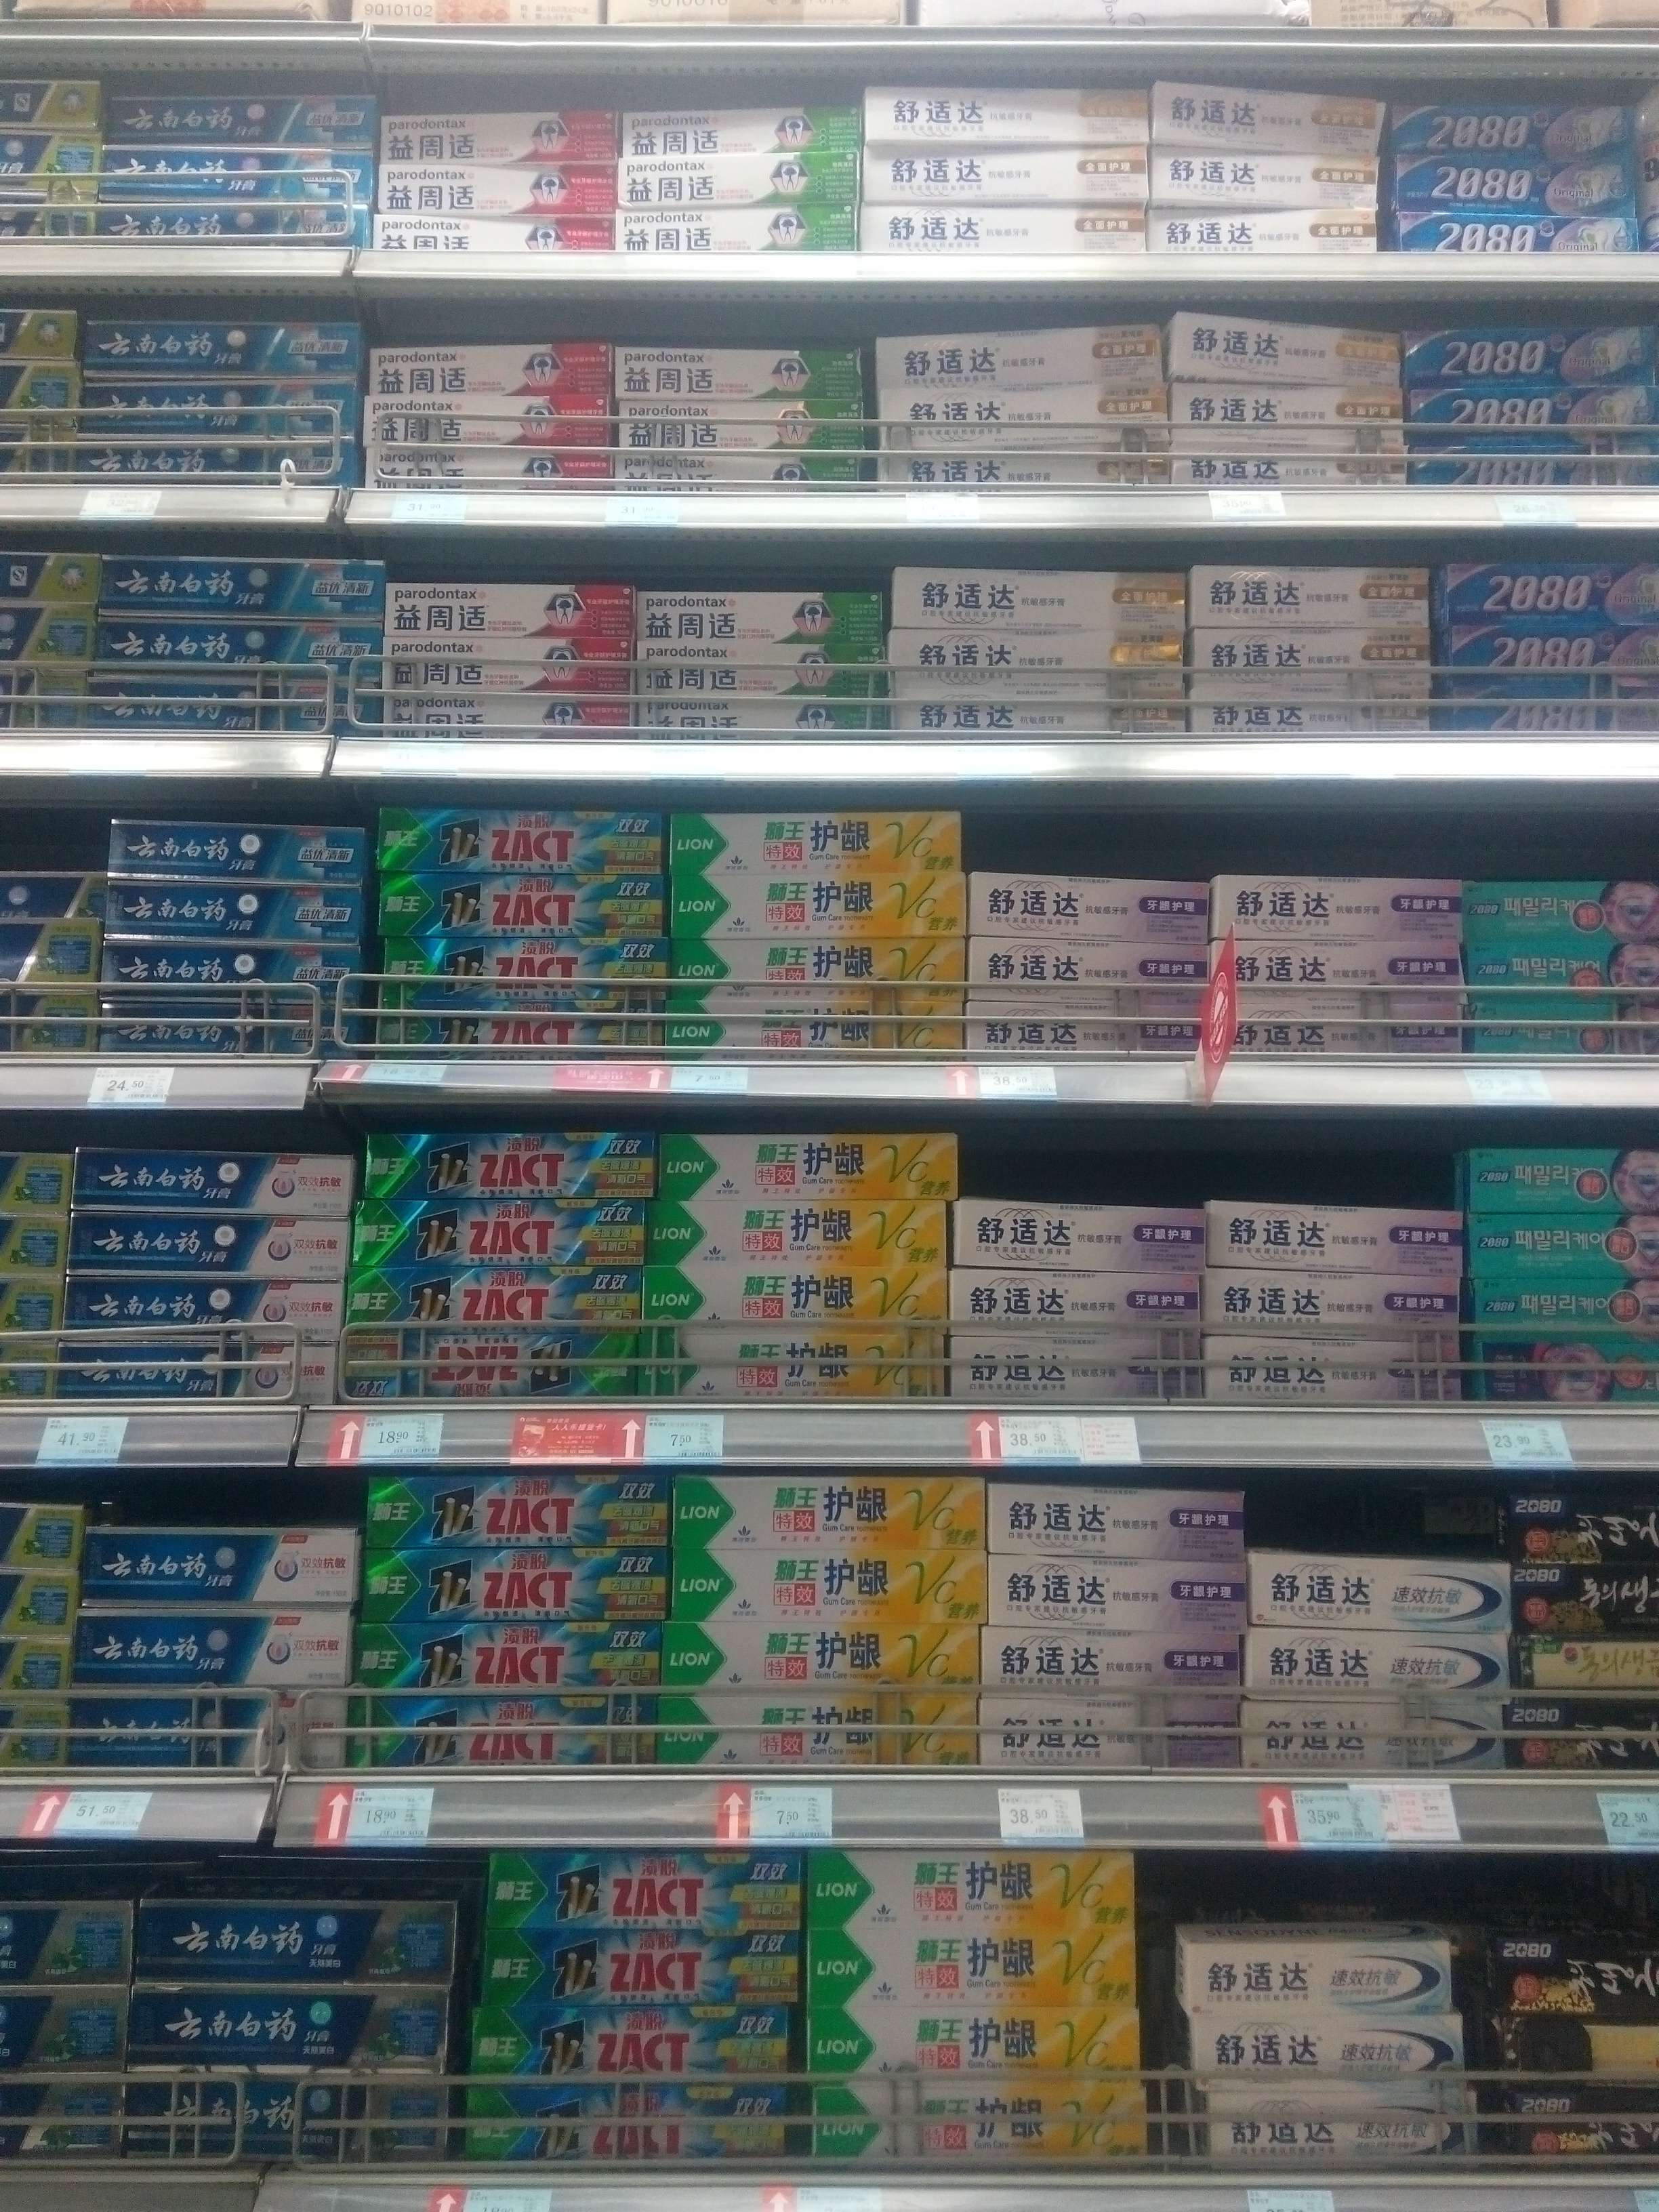product: (124, 1984, 450, 2071), (134, 1895, 460, 1980), (807, 1926, 1138, 2008), (125, 2078, 448, 2158), (479, 1926, 798, 2003), (812, 2087, 1145, 2160), (465, 2083, 789, 2158), (467, 2006, 788, 2081), (810, 1851, 1136, 1925), (809, 2010, 1140, 2081), (80, 1524, 352, 1609), (483, 1855, 805, 1925), (368, 1472, 667, 1545), (1195, 2010, 1467, 2090), (361, 1550, 662, 1622), (78, 1613, 347, 1693), (347, 1698, 652, 1768), (674, 1554, 992, 1620), (355, 1623, 657, 1691), (1213, 2094, 1478, 2170), (659, 1700, 979, 1763), (659, 1132, 958, 1198), (674, 1482, 981, 1547), (669, 805, 958, 871), (340, 1334, 636, 1399), (664, 1629, 972, 1689), (359, 1132, 648, 1197), (667, 873, 964, 935), (350, 1200, 638, 1264), (647, 1200, 946, 1261), (70, 1696, 343, 1763), (382, 939, 662, 1003), (667, 941, 964, 1001), (892, 636, 1185, 697), (641, 1331, 941, 1390), (1185, 1942, 1460, 2006), (350, 1268, 640, 1329), (985, 1702, 1234, 1771), (378, 873, 660, 934), (371, 1003, 660, 1062), (92, 618, 382, 678), (376, 806, 664, 866), (666, 1001, 962, 1059), (1248, 1632, 1504, 1698), (864, 146, 1150, 206), (99, 554, 382, 613), (999, 1559, 1244, 1627), (889, 575, 1185, 631), (647, 1273, 939, 1329), (71, 1155, 347, 1214), (1244, 1703, 1504, 1766), (101, 89, 373, 148), (98, 944, 359, 1003), (63, 1280, 340, 1336), (66, 1217, 343, 1273), (878, 387, 1164, 441), (1220, 876, 1466, 939), (983, 1637, 1236, 1698), (990, 1489, 1241, 1550), (951, 1273, 1195, 1336), (873, 324, 1154, 378), (1406, 385, 1659, 444), (1410, 317, 1642, 381), (1253, 1562, 1513, 1620), (1204, 1341, 1462, 1399), (56, 1345, 335, 1397), (868, 89, 1145, 141), (84, 378, 357, 430), (1190, 625, 1429, 685), (1215, 1007, 1467, 1062), (1232, 944, 1460, 1005), (1209, 1207, 1464, 1261), (971, 941, 1209, 998), (1192, 564, 1431, 622), (1209, 1273, 1455, 1329), (1152, 146, 1382, 206), (91, 685, 378, 732), (969, 876, 1211, 932), (971, 1003, 1202, 1061), (955, 1339, 1201, 1393), (950, 1209, 1202, 1261), (84, 320, 362, 368), (78, 435, 355, 482), (1175, 381, 1398, 439), (1466, 1143, 1657, 1209), (362, 394, 605, 446), (383, 637, 629, 688), (383, 582, 638, 631), (859, 209, 1143, 253), (1473, 1211, 1659, 1277), (612, 401, 864, 449), (619, 345, 863, 395), (113, 824, 362, 873), (1190, 686, 1431, 737), (624, 108, 864, 158), (1446, 622, 1657, 679), (1394, 155, 1633, 206), (1394, 99, 1622, 152), (884, 700, 1190, 738), (99, 153, 368, 197), (1471, 935, 1659, 996), (108, 890, 361, 935), (617, 160, 859, 207), (1504, 1935, 1659, 2008), (1162, 324, 1401, 371), (371, 343, 610, 390), (1509, 2012, 1659, 2087), (878, 444, 1157, 484), (1446, 566, 1659, 618), (636, 643, 880, 688), (1476, 1334, 1659, 1393), (382, 162, 610, 209), (1467, 880, 1659, 935), (620, 207, 854, 253), (99, 1012, 361, 1052), (643, 693, 882, 737), (640, 594, 887, 636), (387, 693, 633, 735), (1513, 1696, 1659, 1766), (1509, 2088, 1659, 2156), (382, 111, 615, 155), (94, 204, 368, 240), (1474, 1278, 1659, 1332), (1474, 998, 1659, 1052), (362, 451, 610, 491), (617, 451, 857, 491), (1408, 448, 1659, 486), (1448, 685, 1659, 730), (1152, 207, 1378, 249), (1171, 444, 1406, 484), (1396, 211, 1642, 249), (1154, 96, 1387, 136), (1511, 1635, 1659, 1689), (1514, 1507, 1657, 1562), (1520, 1571, 1657, 1627), (375, 218, 613, 247)
